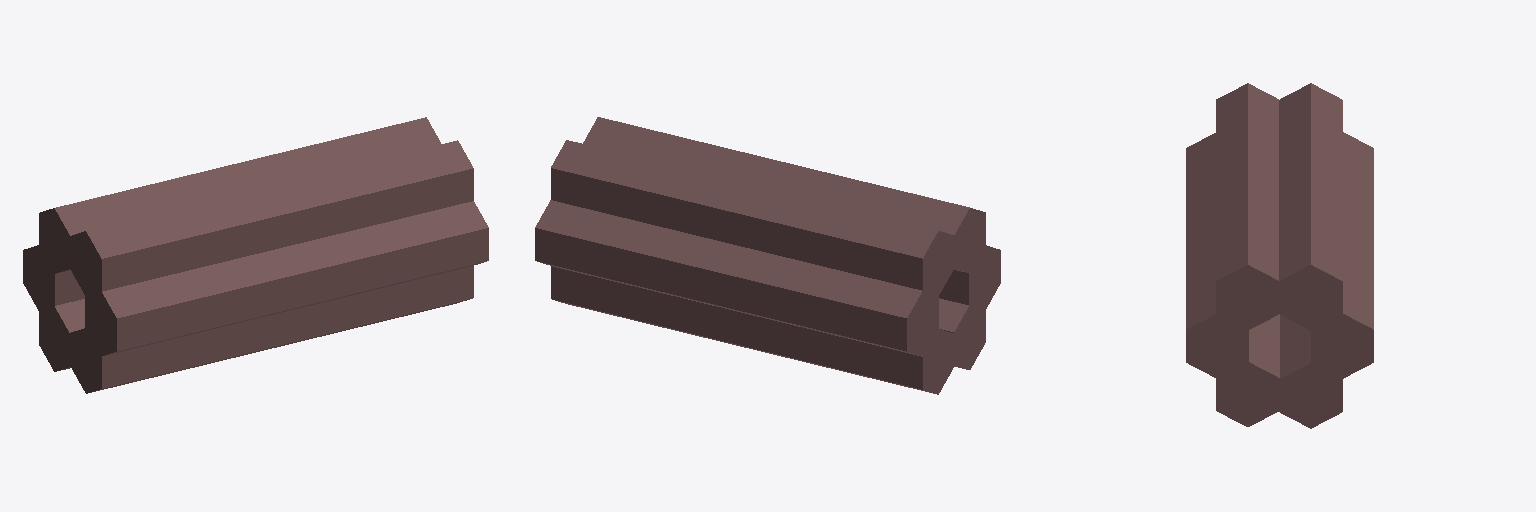
3 views of the same model, side by side, from view 1: azimuth 30°, elevation 25°; view 2: azimuth 150°, elevation 25°; view 3: azimuth 270°, elevation 25° (orthographic).
Parts seen in each view (by area): view 1: pasted__pasted__pCylinder3 pasted__group7 group8 pasted__pCylind, pasted__pasted__pCylinder3 pasted__group7 group8 pasted__pasted_, pasted__pasted__pCylinder3 pasted__group7 group8; view 2: pasted__pasted__pCylinder3 pasted__group7 group8 pasted__pasted_, pasted__pasted__pCylinder3 pasted__group7 group8, pasted__pasted__pCylinder3 pasted__group7 group8 pasted__pCylind; view 3: pasted__pasted__pCylinder3 pasted__group7 group8 pasted__pasted_, pasted__pasted__pCylinder3 pasted__group7 group8 pasted__pCylind, pasted__pasted__pCylinder3 pasted__group7 group8.
Part boxes in pixels (bbox=[...]): pasted__pasted__pCylinder3 pasted__group7 group8 pasted__pCylind: bbox=[70, 140, 488, 356]; pasted__pasted__pCylinder3 pasted__group7 group8 pasted__pasted_: bbox=[39, 117, 473, 393]; pasted__pasted__pCylinder3 pasted__group7 group8: bbox=[23, 245, 84, 310]; pasted__pasted__pCylinder3 pasted__group7 group8 pasted__pasted_: bbox=[551, 140, 985, 394]; pasted__pasted__pCylinder3 pasted__group7 group8: bbox=[535, 200, 938, 356]; pasted__pasted__pCylinder3 pasted__group7 group8 pasted__pCylind: bbox=[583, 117, 1000, 308]; pasted__pasted__pCylinder3 pasted__group7 group8 pasted__pasted_: bbox=[1216, 83, 1342, 428]; pasted__pasted__pCylinder3 pasted__group7 group8 pasted__pCylind: bbox=[1186, 83, 1279, 378]; pasted__pasted__pCylinder3 pasted__group7 group8: bbox=[1311, 132, 1373, 378].
Size of the model in its own units: 2.16 by 0.913 by 0.9456.
Materials: 1 (1 with a texture image).